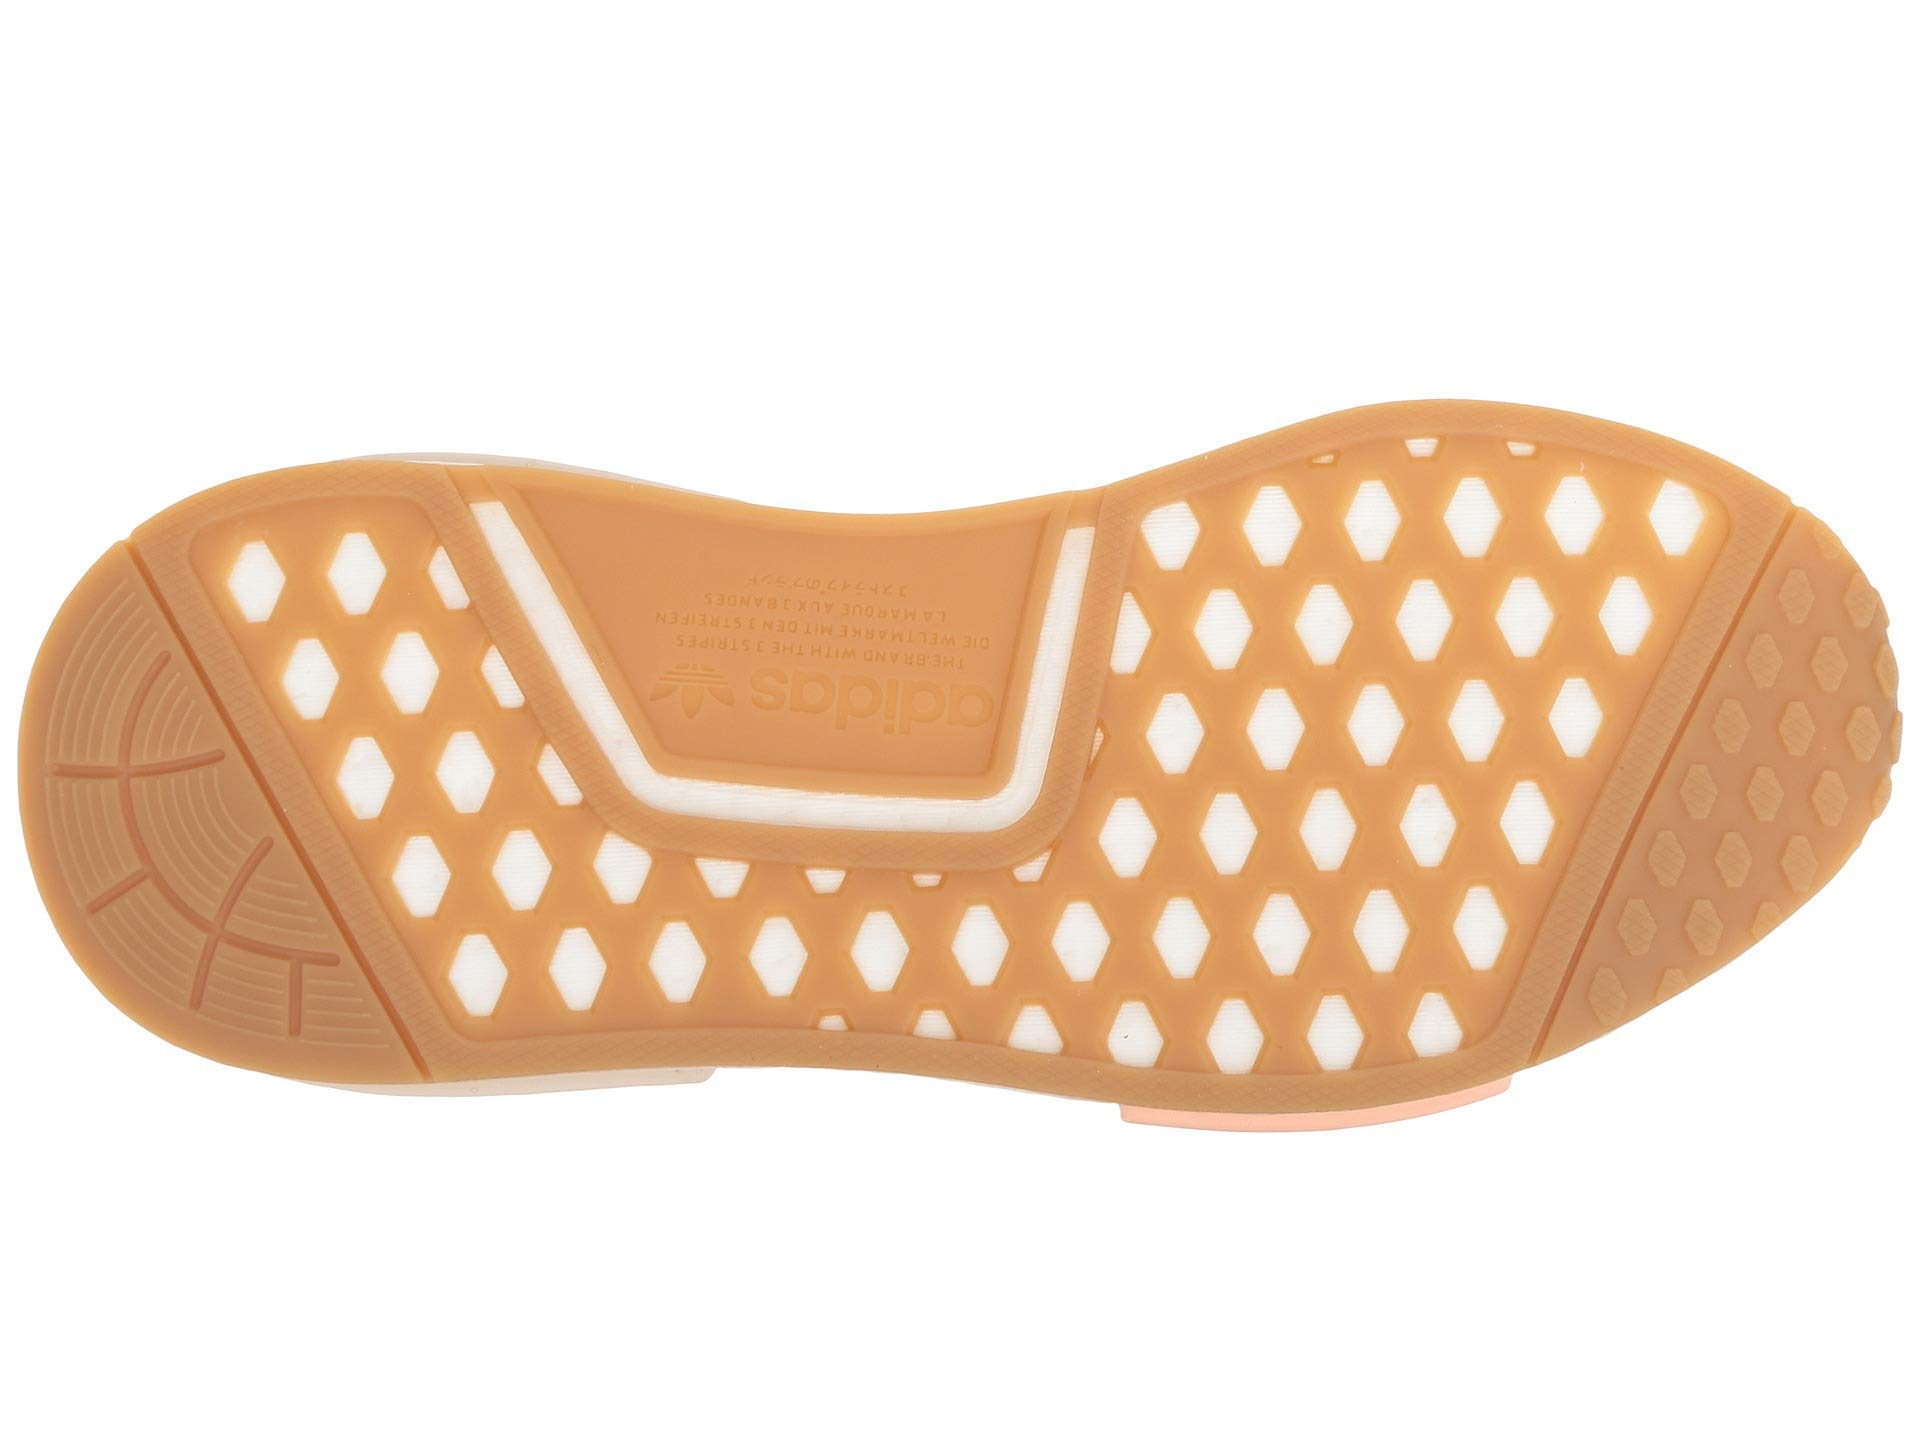circle: (745, 635, 981, 787)
line: (98, 644, 522, 1015)
polygon: (1144, 538, 1506, 1001), (98, 644, 522, 1015), (1686, 653, 1882, 873)
quad: (98, 644, 522, 1015)
text: (745, 635, 981, 787)
triangle: (98, 644, 522, 1015)
